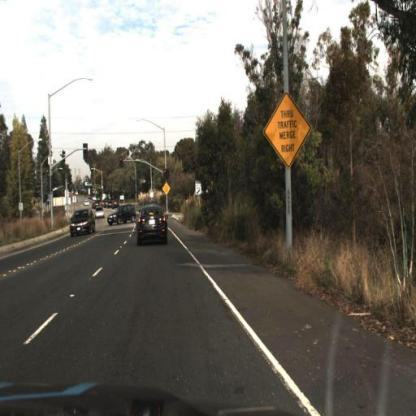car: (136, 205, 168, 242), (69, 206, 98, 237), (106, 202, 137, 228)
trafficLight-Red: (119, 154, 125, 172), (164, 167, 170, 182)
